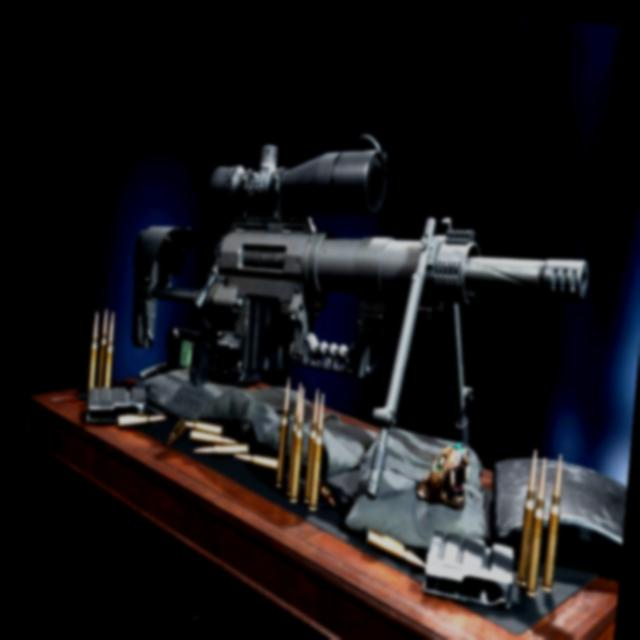rifle: (114, 106, 606, 447)
